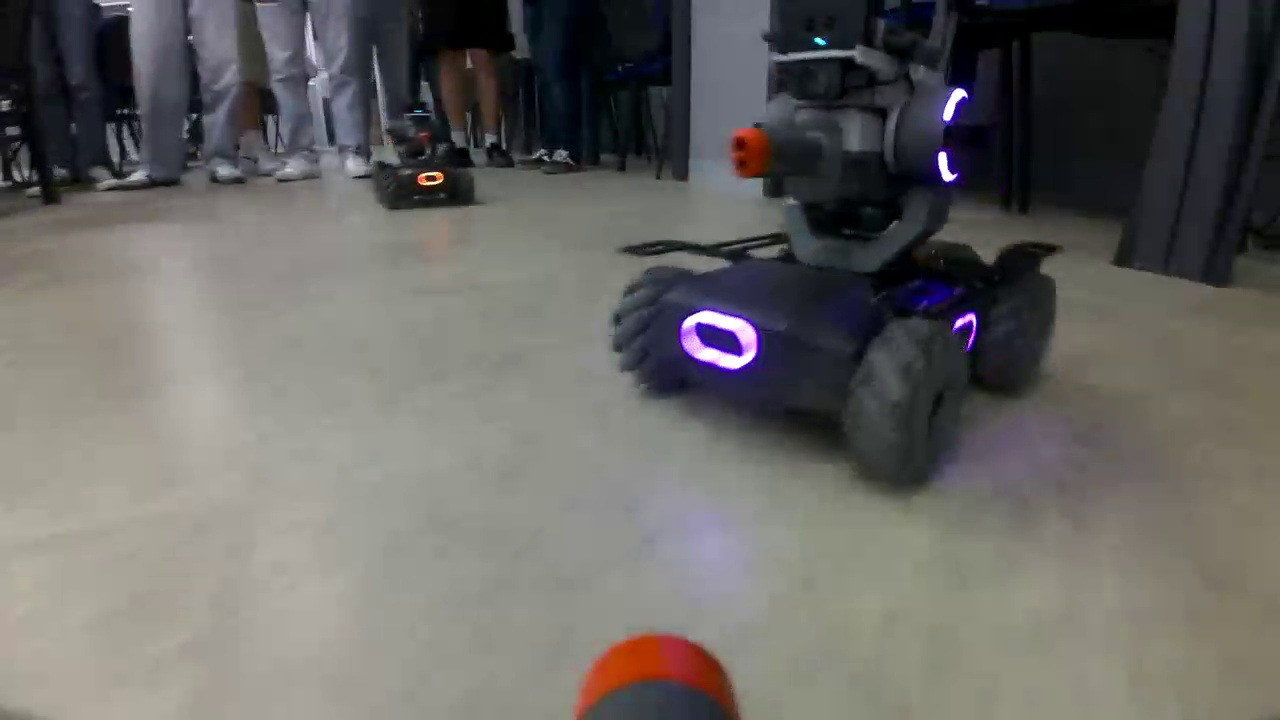robot: (610, 36, 1055, 490), (368, 95, 478, 210)
